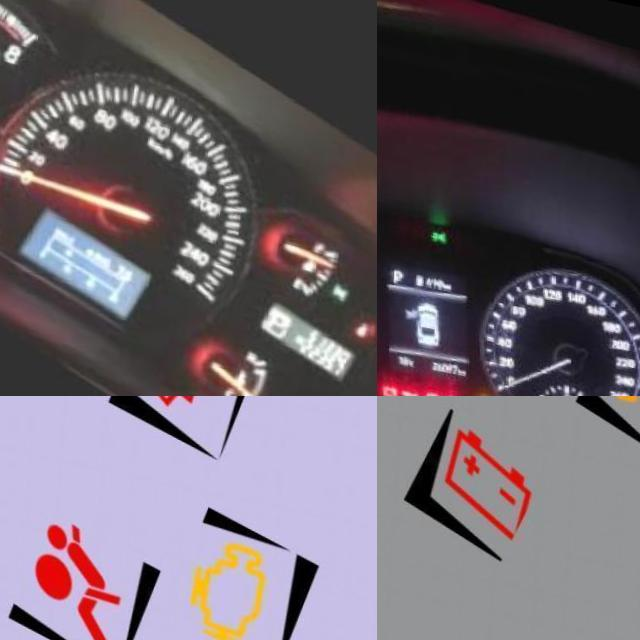Seat Belt: (457, 374, 469, 390)
